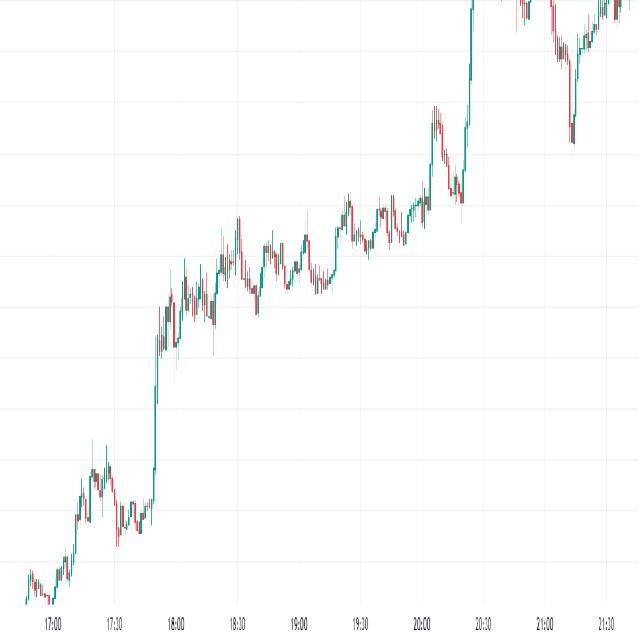Ascending-Triangle: (111, 490, 165, 587)
